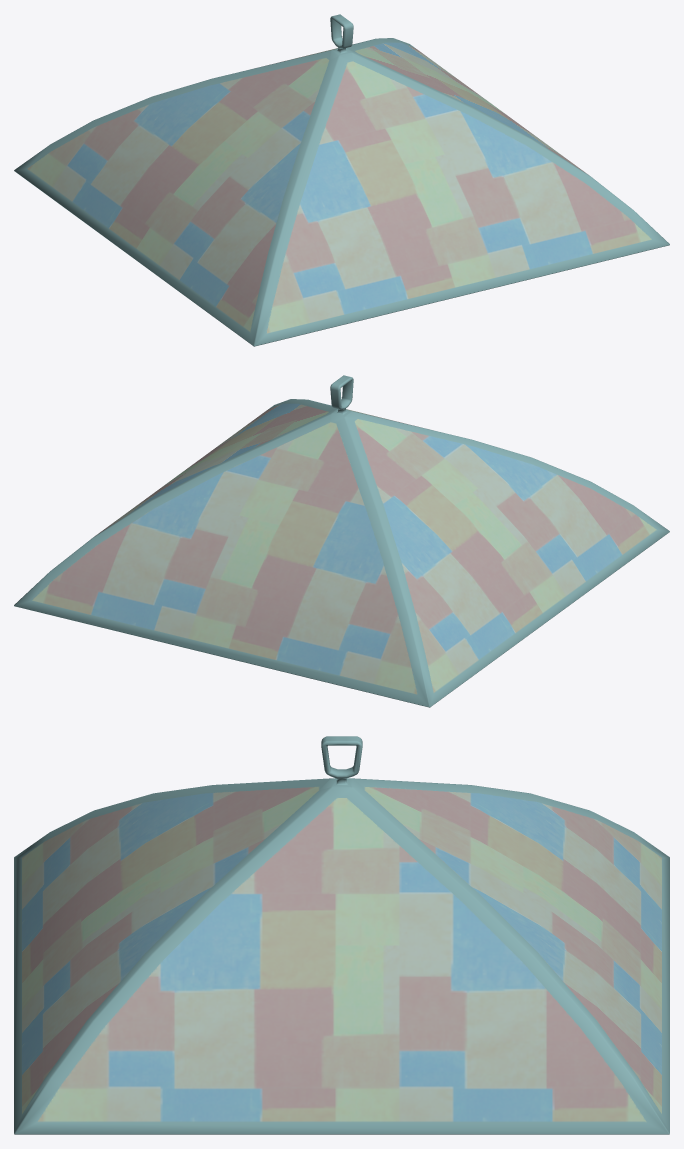
Rendered from Sculpture _core.fbx.
3 renders of one model, top to bottom at view 1: azimuth 30°, elevation 25°; view 2: azimuth 150°, elevation 25°; view 3: azimuth 270°, elevation 25°, orthographic. The views are drawn at different scales.
Visible parts, largest first — view 1: Cube.116; view 2: Cube.116; view 3: Cube.116.
Part boxes in pixels (x1=…): Cube.116: x1=14, y1=14, x2=669, y2=346; Cube.116: x1=14, y1=375, x2=669, y2=707; Cube.116: x1=14, y1=736, x2=669, y2=1134.
Size of the model in its own units: 23.23 by 10.06 by 23.23.
1 material, 1 textured.
